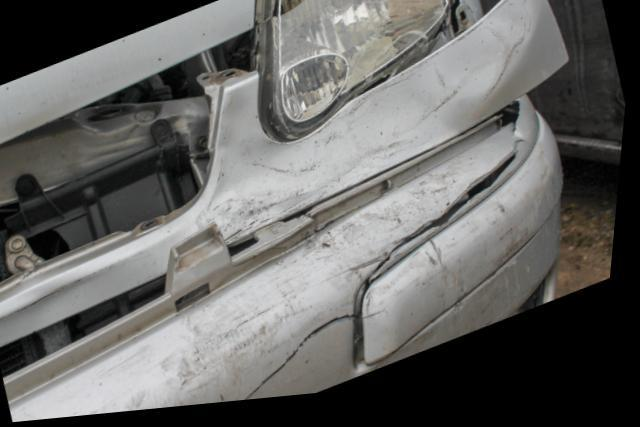crack: (372, 136, 522, 287), (250, 321, 363, 406)
dent: (208, 17, 524, 245)
dislocated part: (3, 105, 566, 423), (209, 0, 574, 249)
lamp broken: (257, 0, 463, 152)
no part: (0, 36, 252, 289)
scratch: (69, 168, 472, 419), (365, 153, 565, 366)
